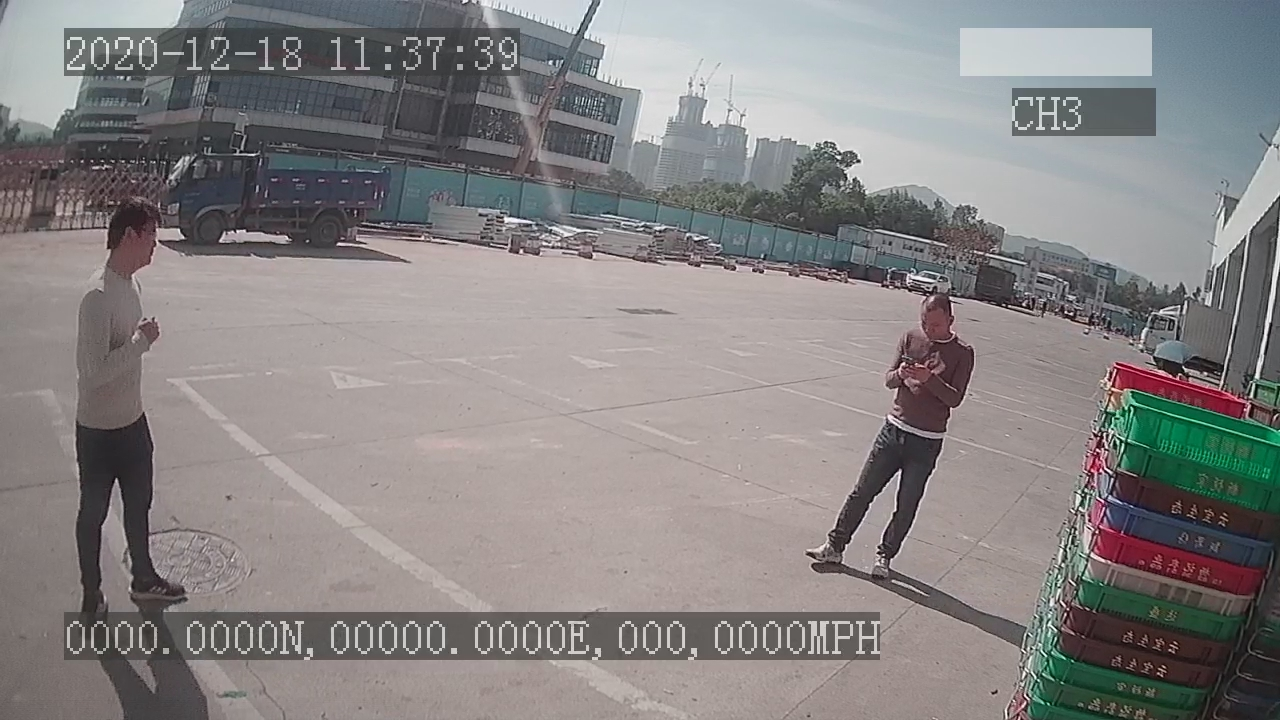person: (802, 290, 982, 582)
